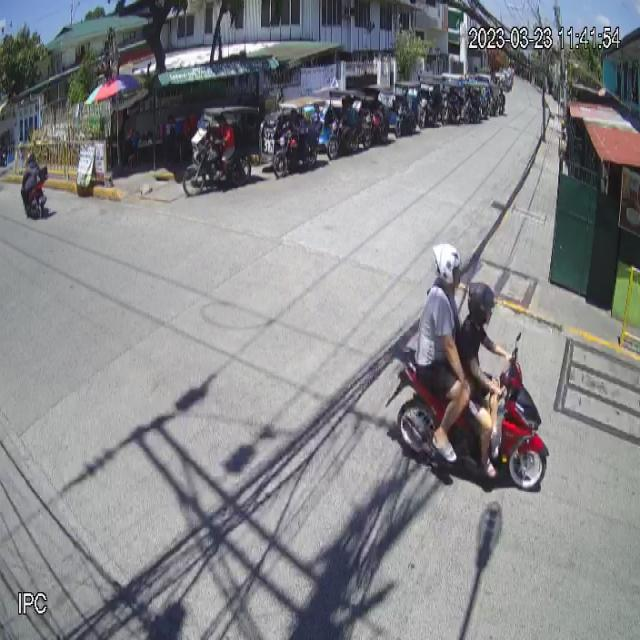Motorcycle: (384, 331, 550, 489)
